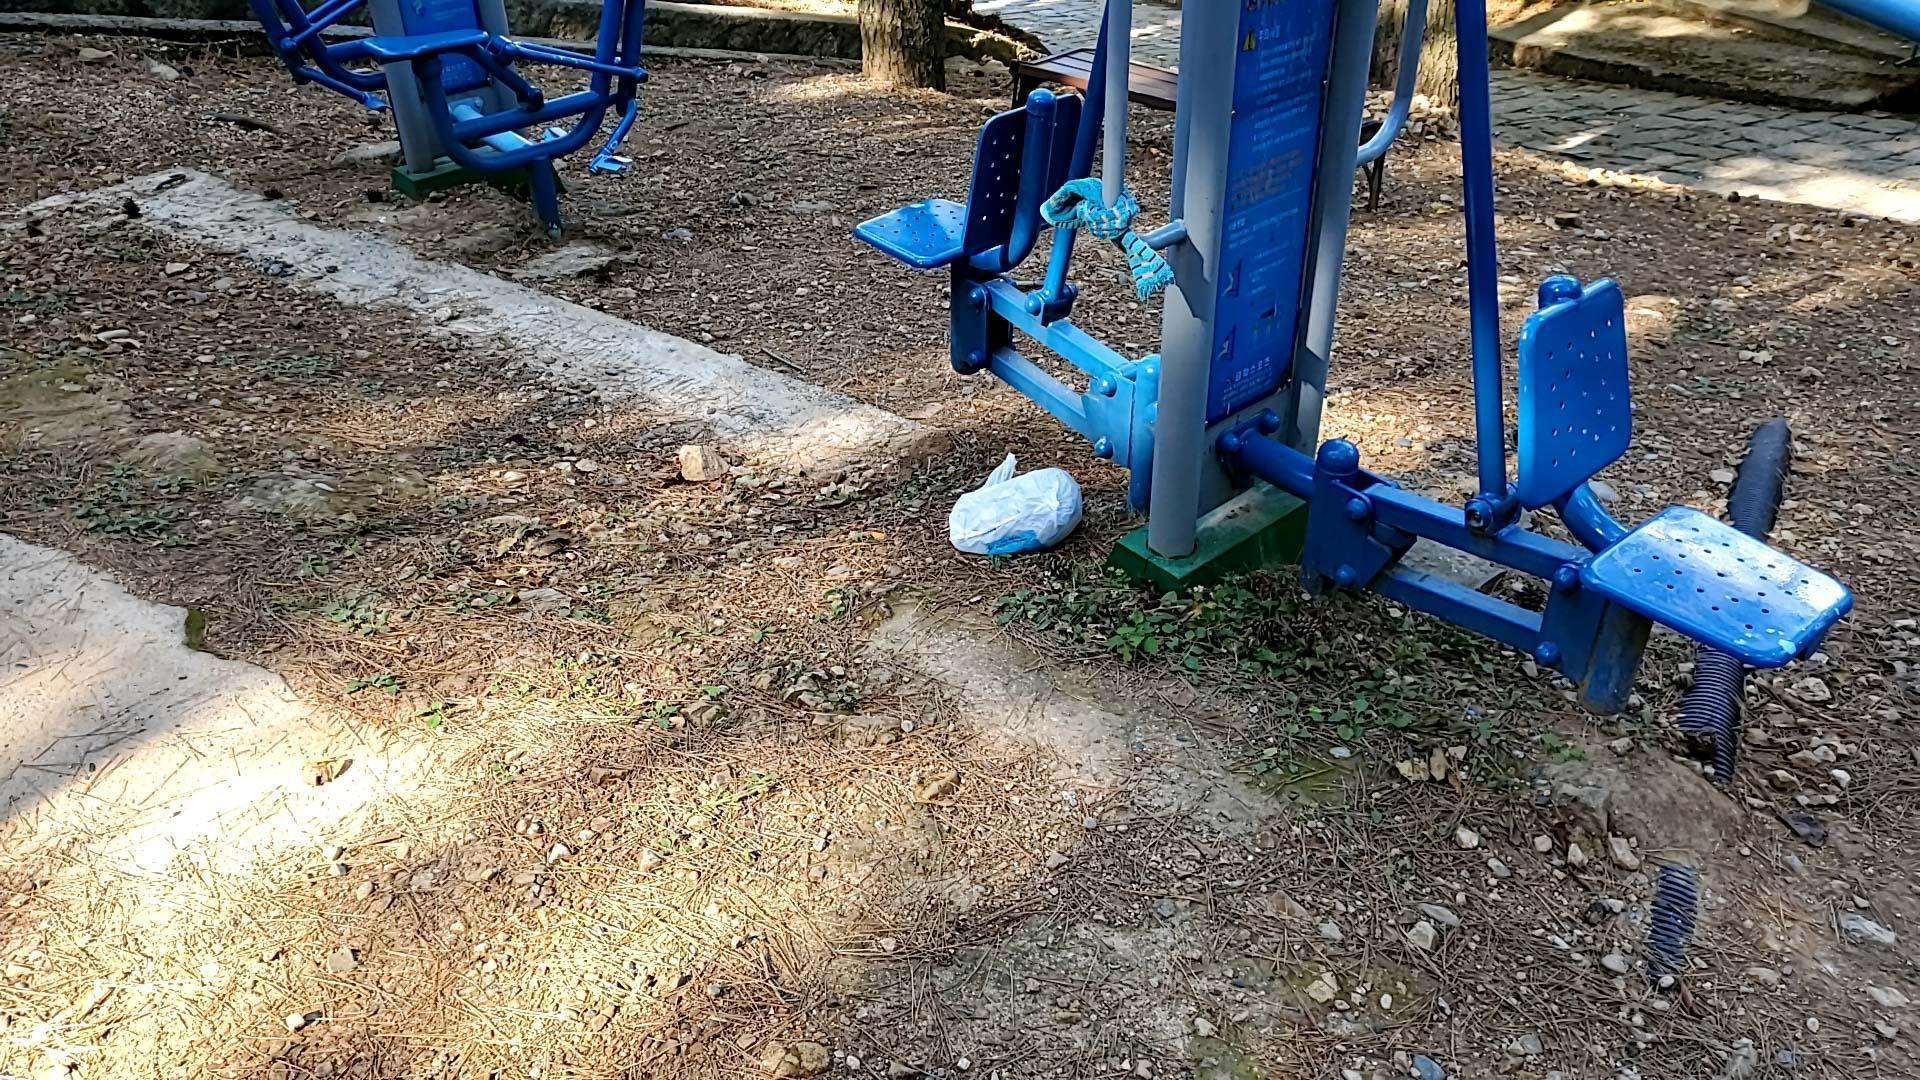white_bag: (939, 448, 1089, 564)
